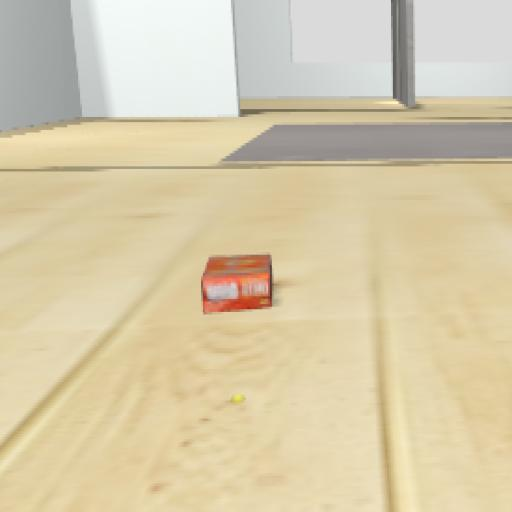BOX_R: (152, 168, 323, 388)
